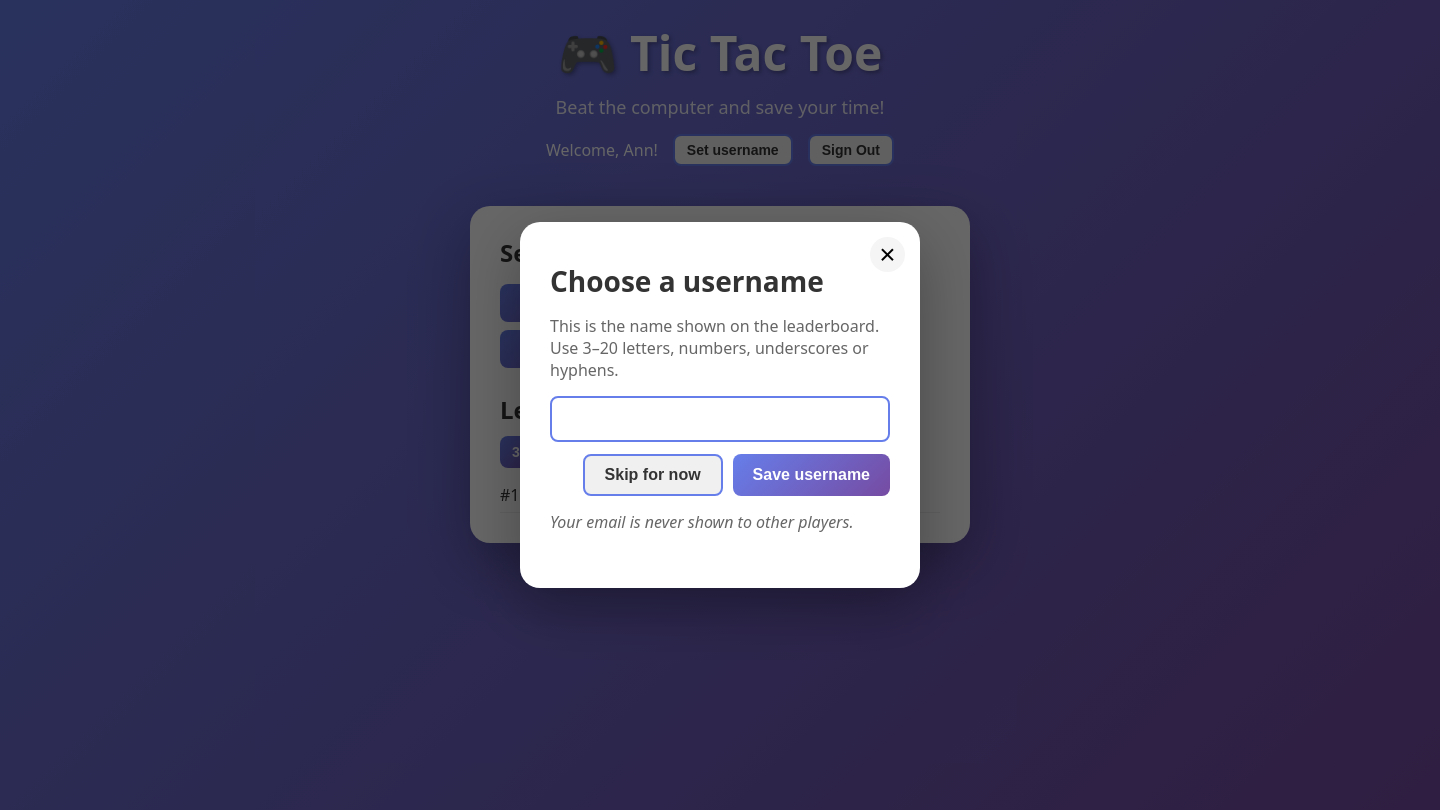
Test case: App: choosing a username › lets a player skip, then come back from the header
Expected: the heading "Choose a username" is shown, [550,262,824,300]
Click the button "Skip for now".
click(653, 475)  # box [583,454,723,496]
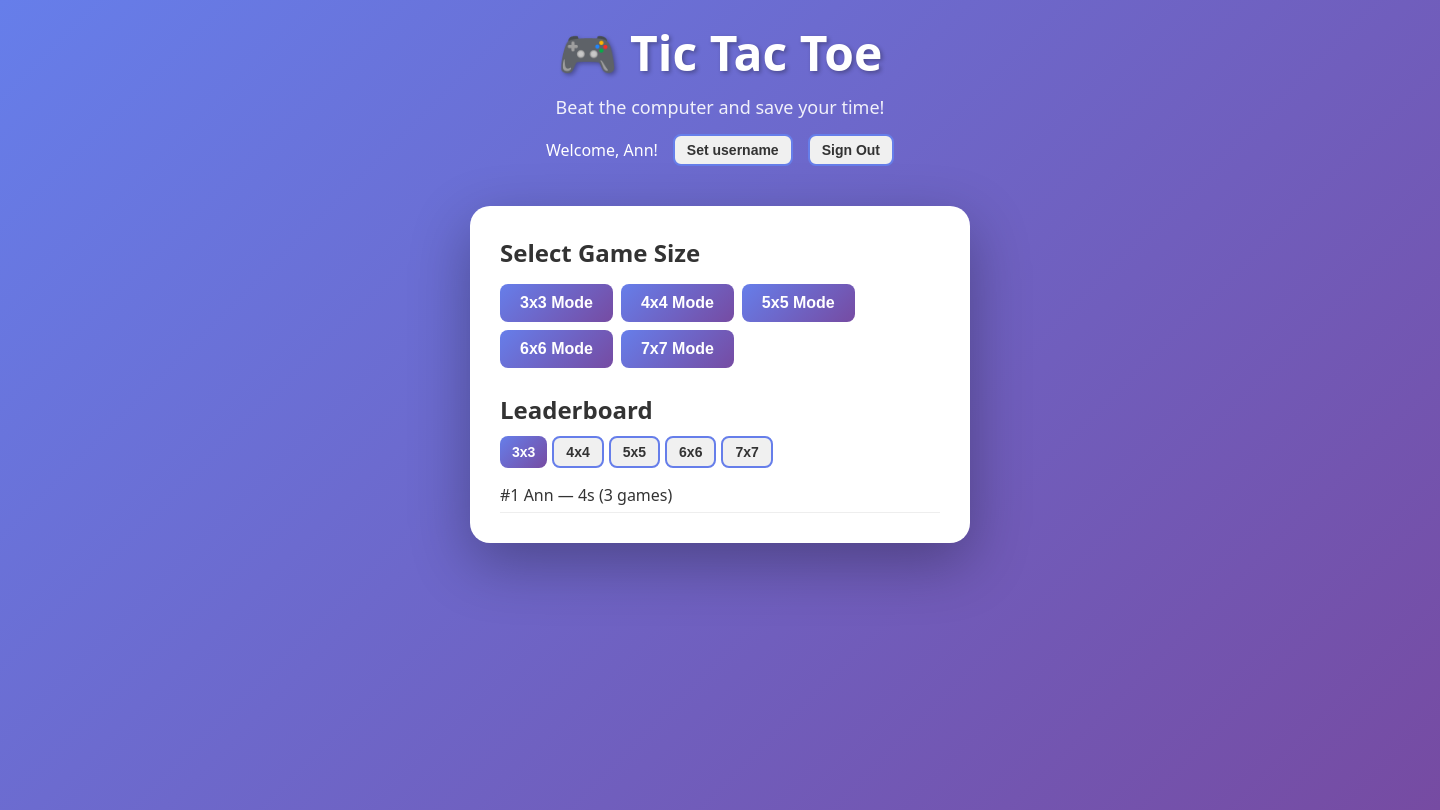
Expected: the text "Welcome, Ann!" is shown, [546,139,658,161]
Result: the heading "Choose a username" is gone
Click the button "Set username".
click(733, 150)  # box [673,134,793,166]
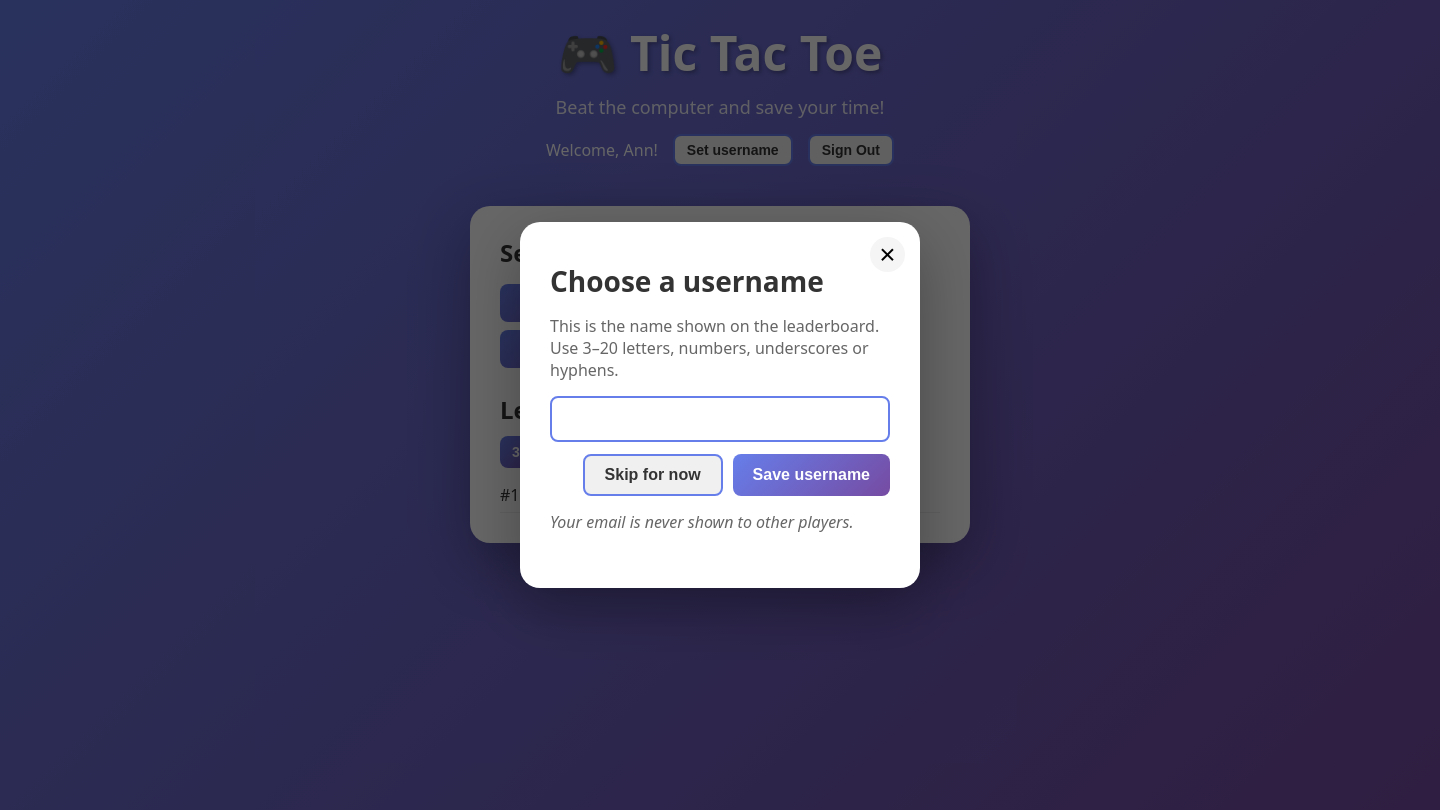
Result: the heading "Choose a username" is shown at [550,262,824,300]
